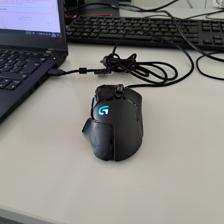mouse: (80, 82, 145, 162)
